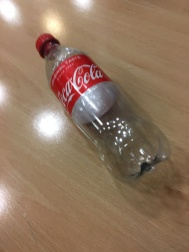bottle_red: (20, 30, 178, 187)
